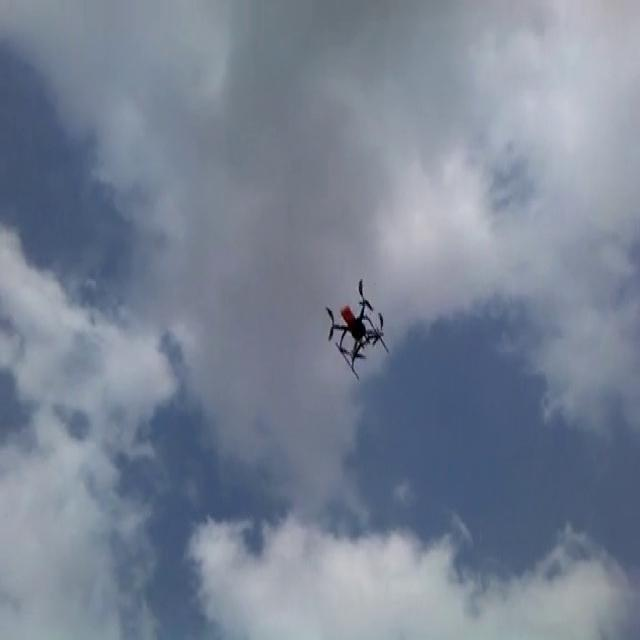drone: (323, 274, 390, 378)
